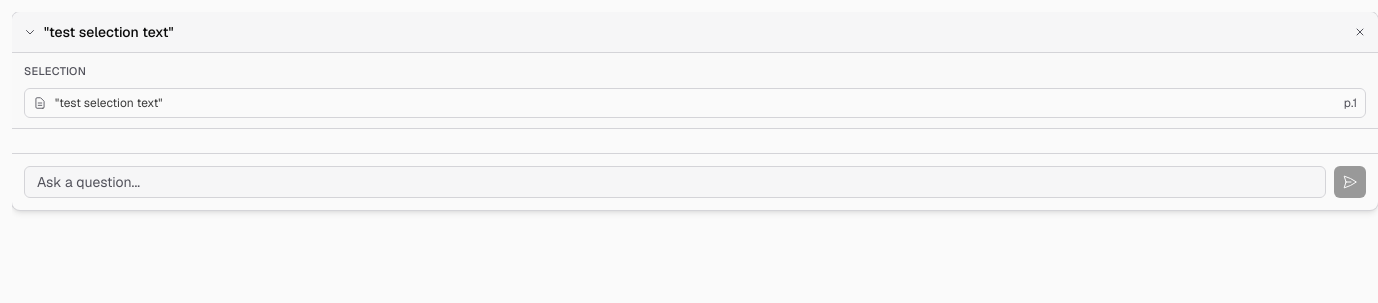
AIPopover › Bug D fix: empty response guard › shows error for empty streaming response
Type "my question" into the field with placeholder "Ask a question..." at coordinates (675, 182), box [24,166,1326,198]
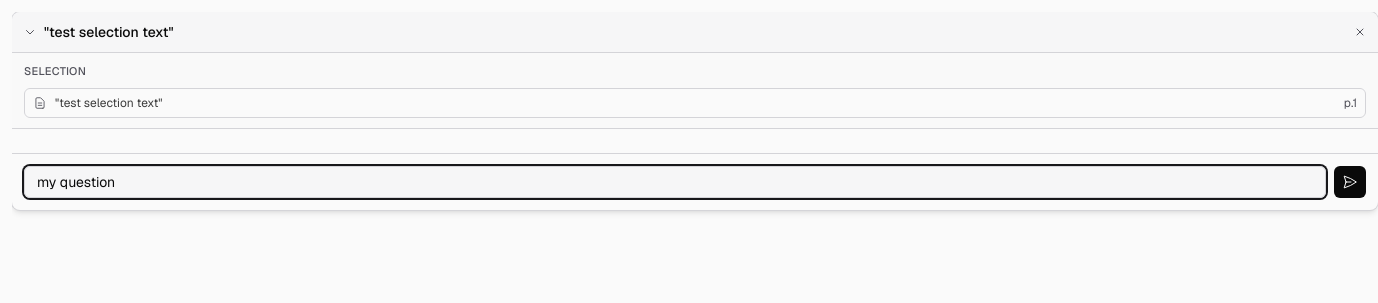
Submit the form with placeholder "Ask a question...", box [12,152,1377,210]
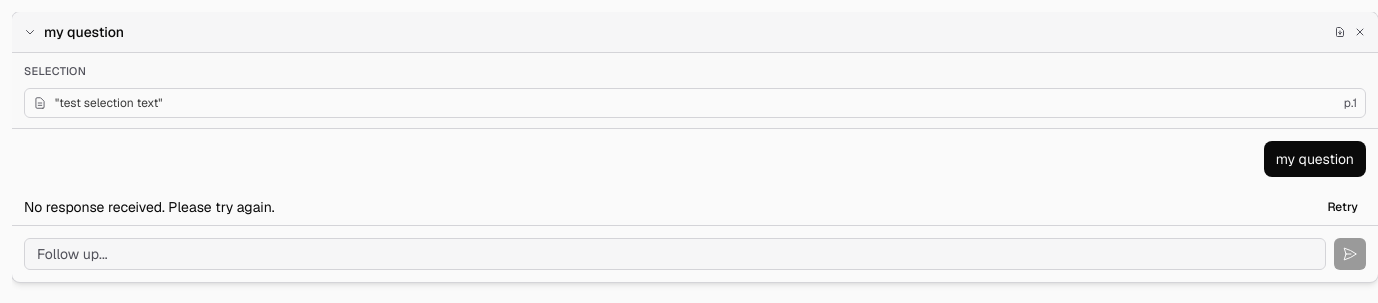
Check: the text "No response received. Please try again." is shown, box [24,196,275,216]
